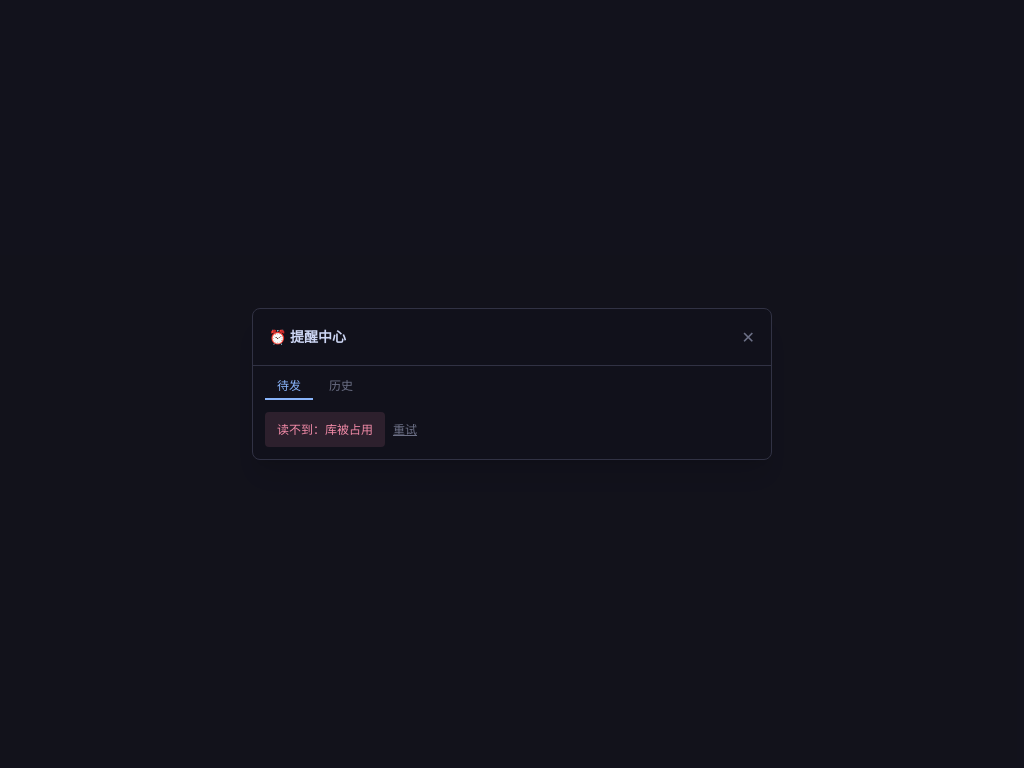
Scenario: 提醒中心：首读就失败 ⇒ 那句旁边就得有一颗能再发一发的键 › ①②③ 失败脸有键、按下去真再发一发、到货后那句收回且行上屏
Click the button with test id "reminders-list-read-retry": [405, 430] box [393, 422, 417, 438]
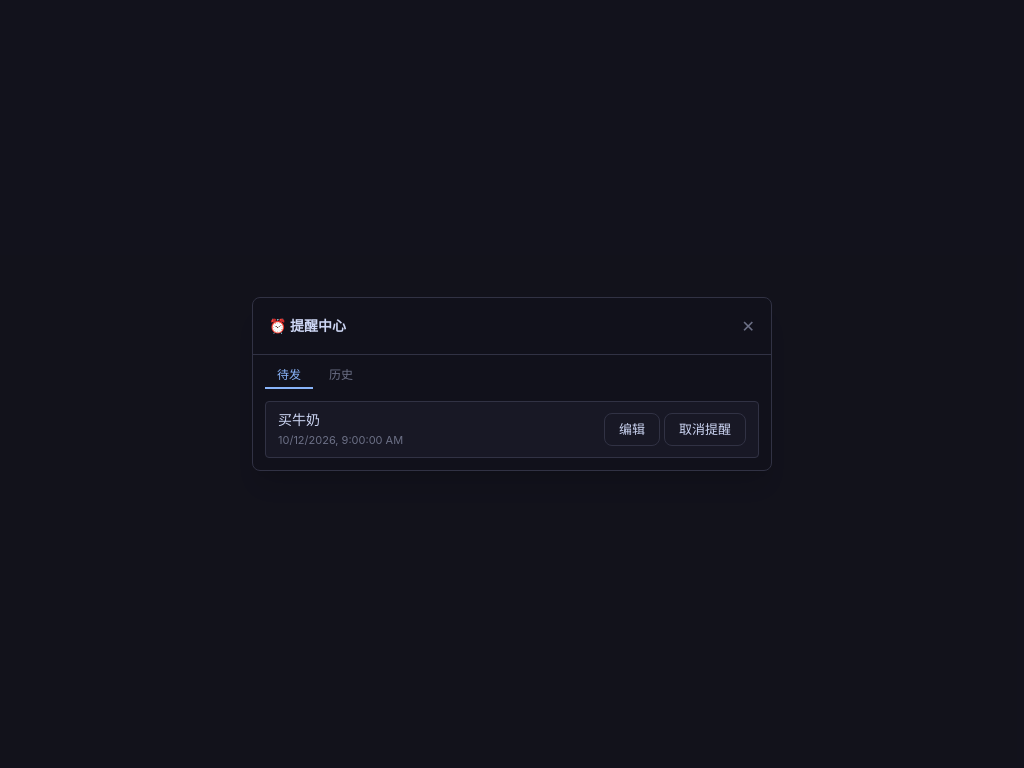
expect the button with test id "reminders-list-read-retry" is gone: met
expect the text "买牛奶" is shown: met, box [278, 411, 320, 428]
